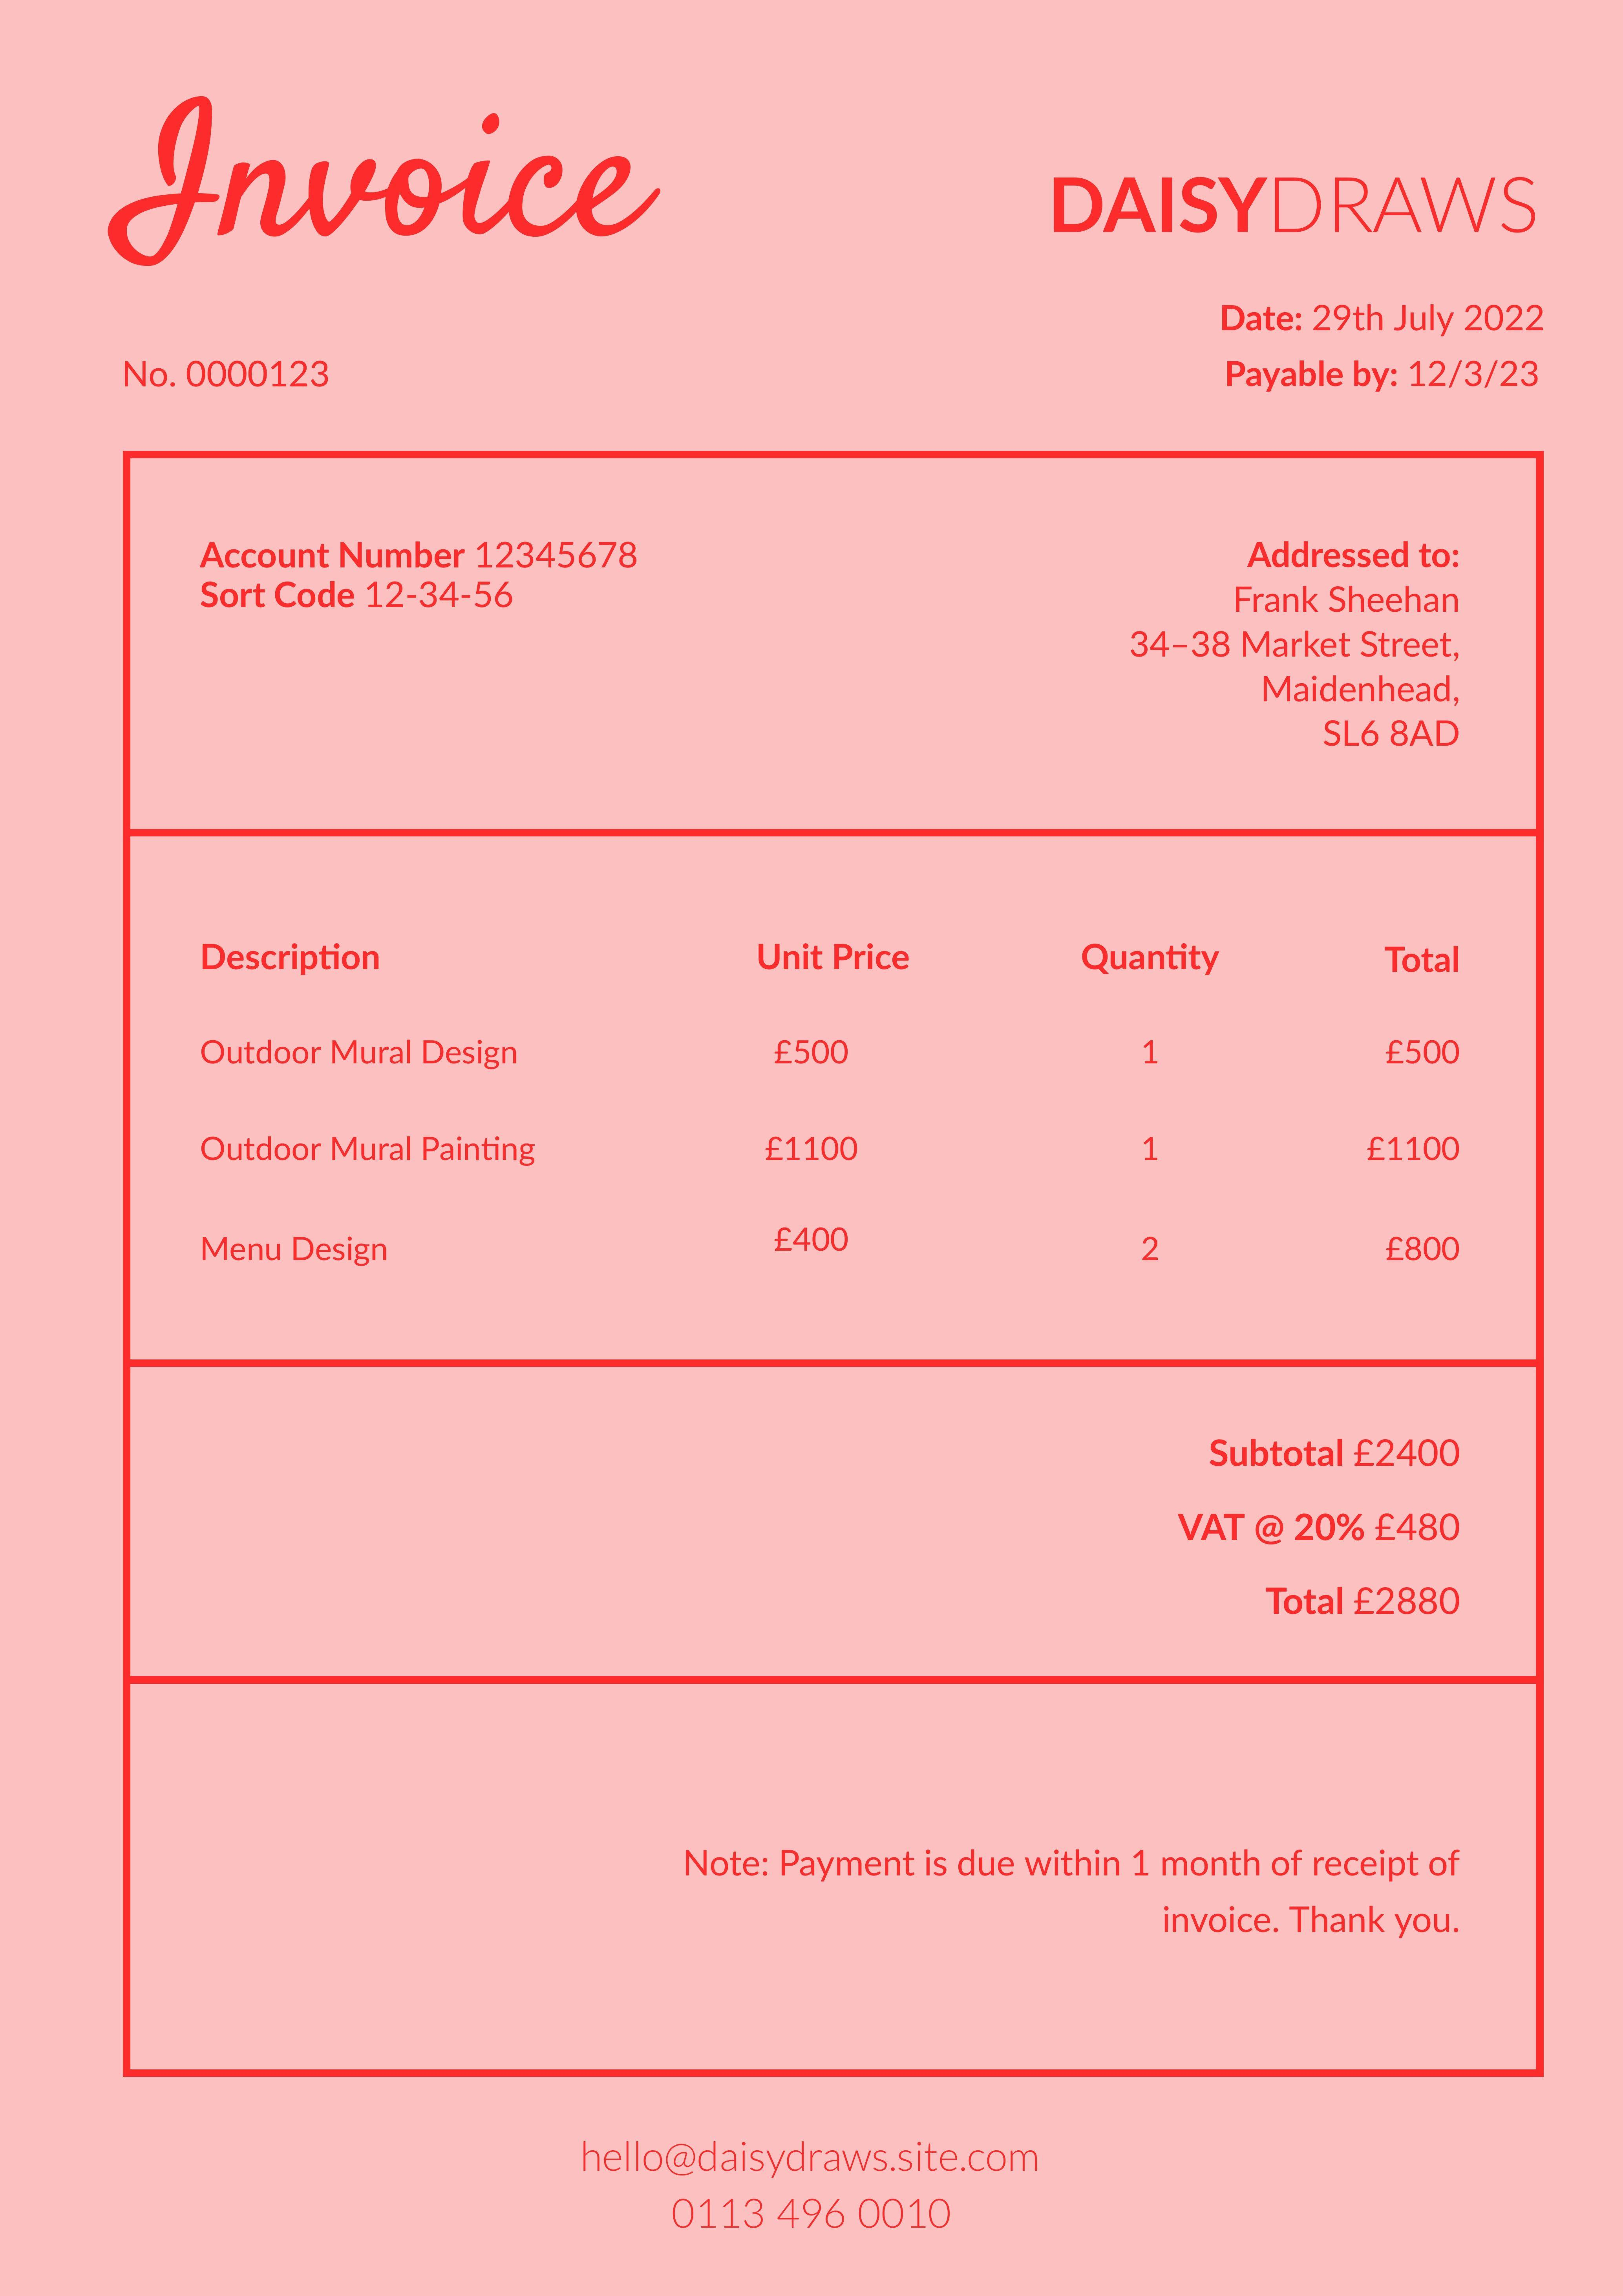ROI: (189, 928, 1474, 1286), (99, 292, 1561, 417), (1130, 529, 1480, 772), (1167, 1409, 1469, 1639), (1042, 150, 1547, 247), (182, 529, 658, 628)
